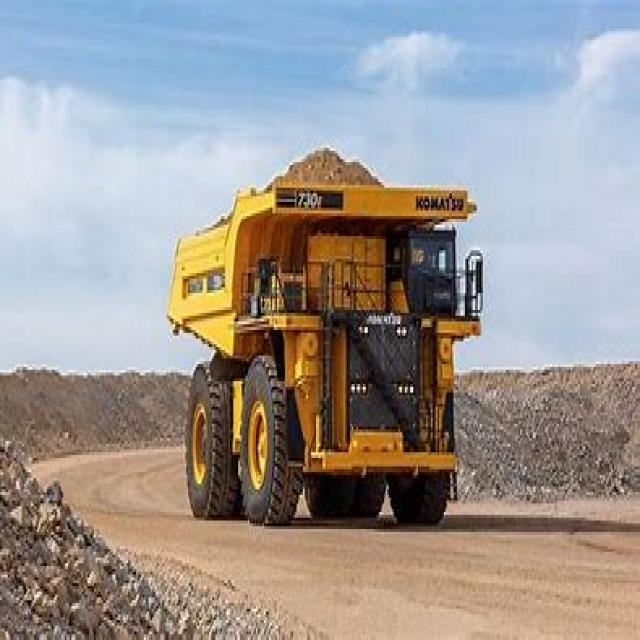dump_truck: (165, 142, 480, 526)
